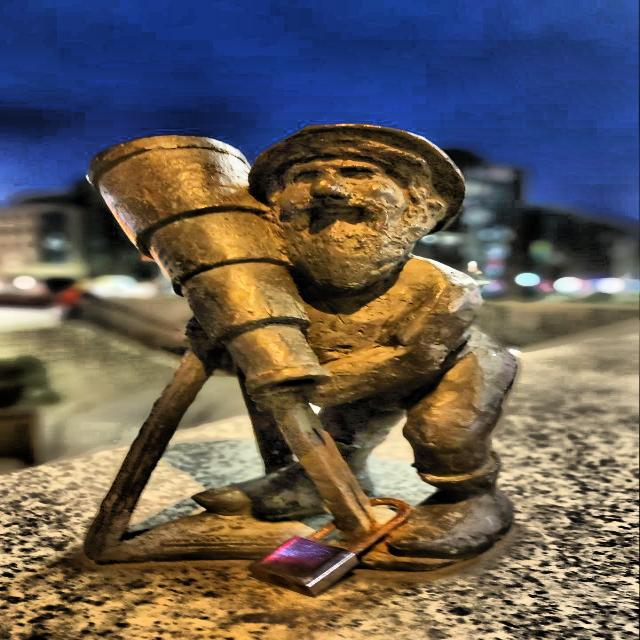Lunetyk: (75, 124, 518, 568)
